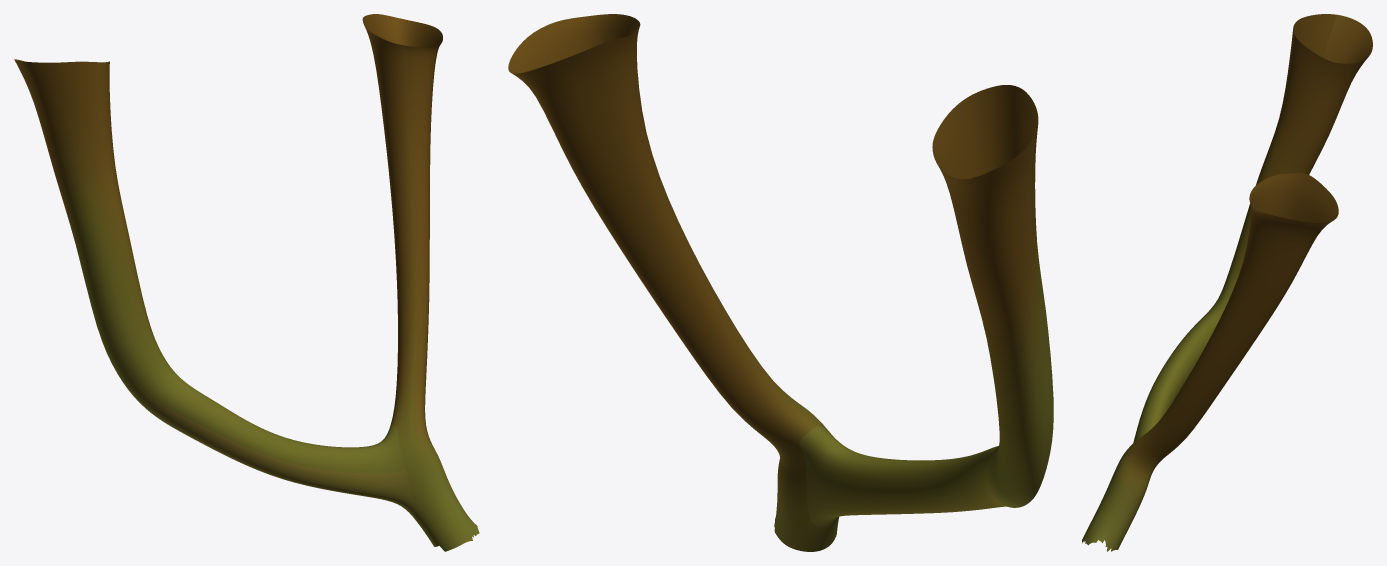
File: Conducto Hepático Común.FBX
3 renders of one model, left to right at view 1: azimuth 30°, elevation 25°; view 2: azimuth 150°, elevation 25°; view 3: azimuth 270°, elevation 25°, orthographic. The views are drawn at different scales.
Parts seen in each view (by area): view 1: conducte; view 2: conducte; view 3: conducte.
Part boxes in pixels (bbox=[...]): conducte: bbox=[14, 14, 479, 551]; conducte: bbox=[508, 14, 1053, 551]; conducte: bbox=[1082, 14, 1372, 551].
Bounding box in the file's own units: 3.25 × 3.74 × 2.38.
Materials: 1 (1 with a texture image).
